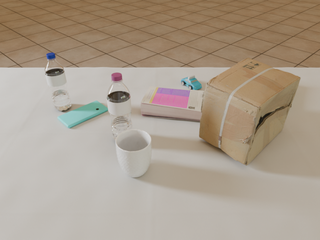book: (141, 86, 204, 121)
bottle: (107, 73, 133, 142), (45, 53, 71, 111)
box: (199, 58, 301, 165)
cup: (116, 129, 152, 177)
phone: (58, 101, 108, 128)
toy_car: (181, 75, 202, 90)
